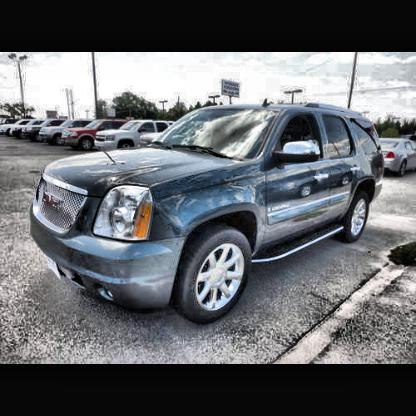GMC Yukon Hybrid SUV 2012: (30, 105, 386, 327)
